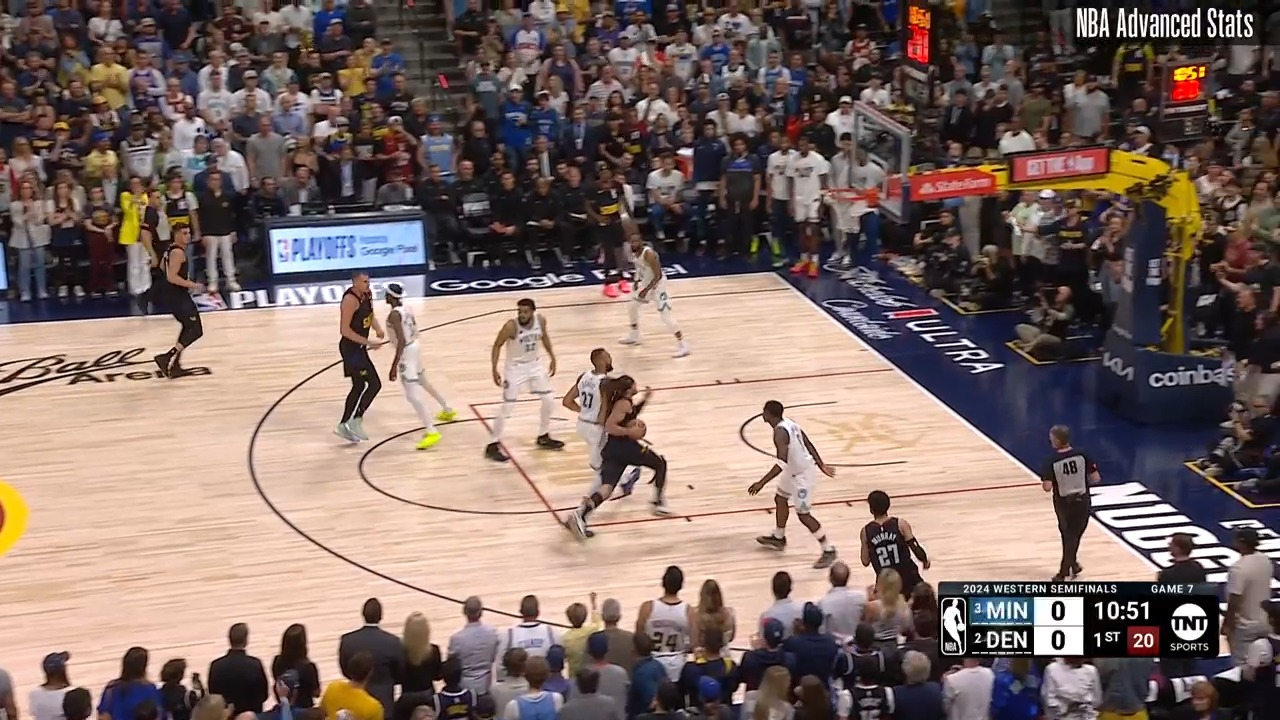basketball: (623, 418, 647, 442)
